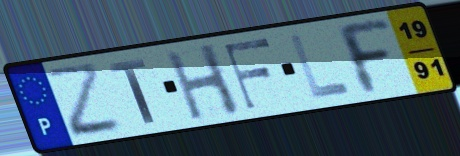F: (330, 18, 396, 98), (221, 36, 276, 113)
H: (162, 41, 245, 123)
L: (286, 32, 355, 102)
T: (106, 56, 158, 126)
Z: (41, 59, 127, 141)
